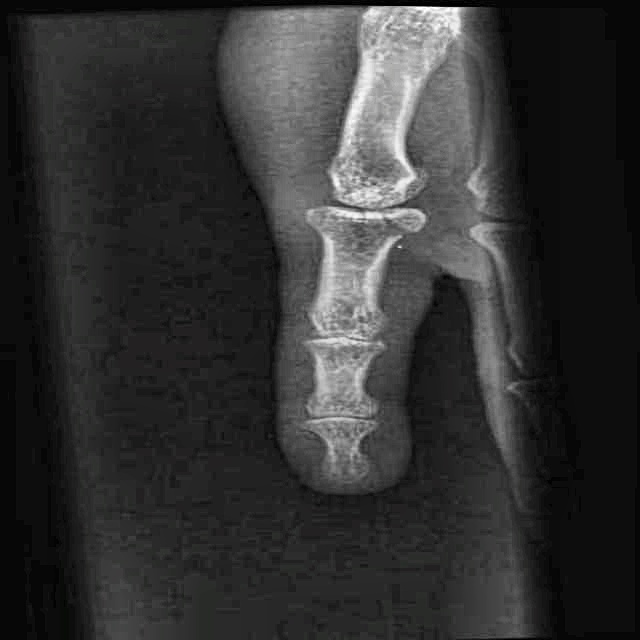Greenstick: (323, 189, 449, 252)
